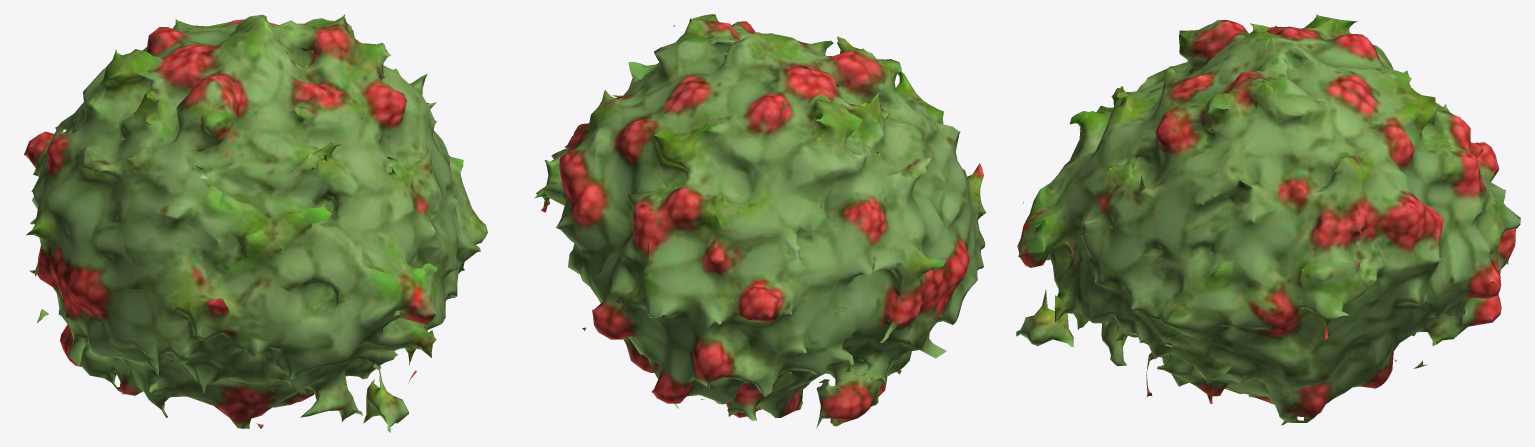
Rendered from BushBerries.glb.
The picture shows the model from 3 angles, left to right: view 1: azimuth 30°, elevation 25°; view 2: azimuth 150°, elevation 25°; view 3: azimuth 270°, elevation 25°; orthographic projection. The views are drawn at different scales.
Parts seen in each view (by area): view 1: BushBerries; view 2: BushBerries; view 3: BushBerries.
Boxes of the visible parts, box(x1,y1,x2,y2) form: BushBerries: box(24, 14, 487, 432); BushBerries: box(534, 14, 986, 428); BushBerries: box(1016, 14, 1520, 425).
Size of the model in its own units: 1.34 by 1.16 by 1.45.
Materials: 1 (1 with a texture image).
